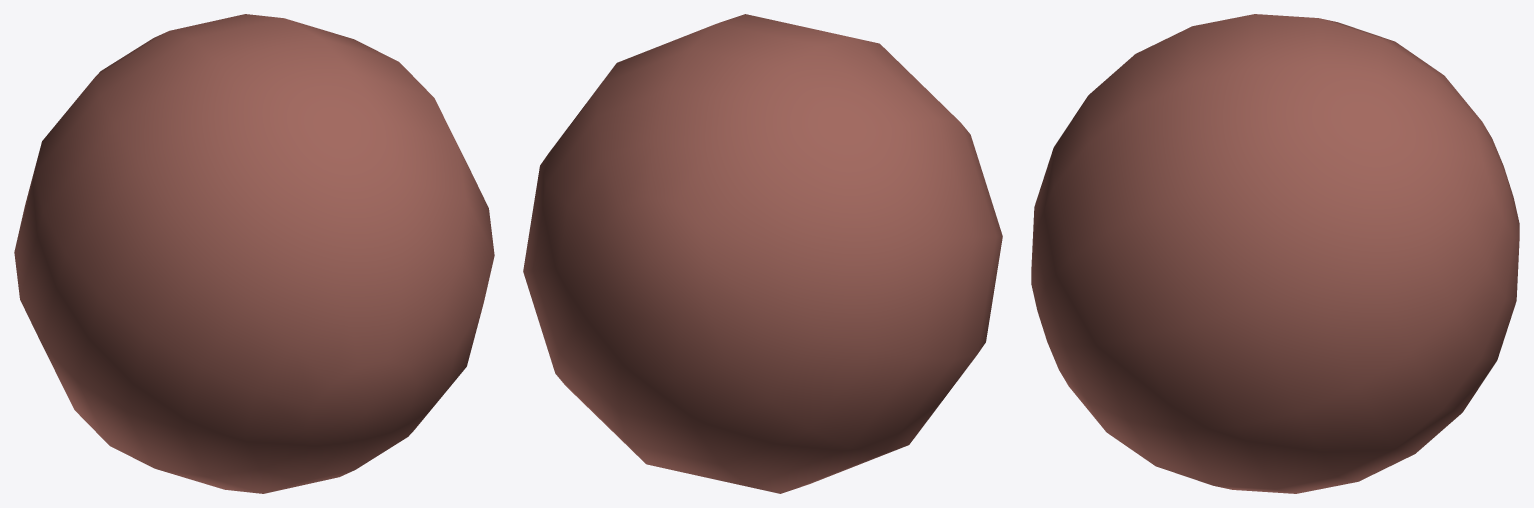
The model's file is mixamo_humanoid_joint_leftHandThumb1.fbx.
3 renders of one model, left to right at view 1: azimuth 30°, elevation 25°; view 2: azimuth 150°, elevation 25°; view 3: azimuth 270°, elevation 25°, orthographic. The views are drawn at different scales.
Visible parts, largest first — view 1: joint_LeftHandThumb1; view 2: joint_LeftHandThumb1; view 3: joint_LeftHandThumb1.
Part boxes in pixels (x1,y1,x2,y2): joint_LeftHandThumb1: [14, 14, 494, 493]; joint_LeftHandThumb1: [523, 14, 1002, 493]; joint_LeftHandThumb1: [1031, 14, 1519, 493].
Size of the model in its own units: 3.66 by 3.66 by 3.74.
